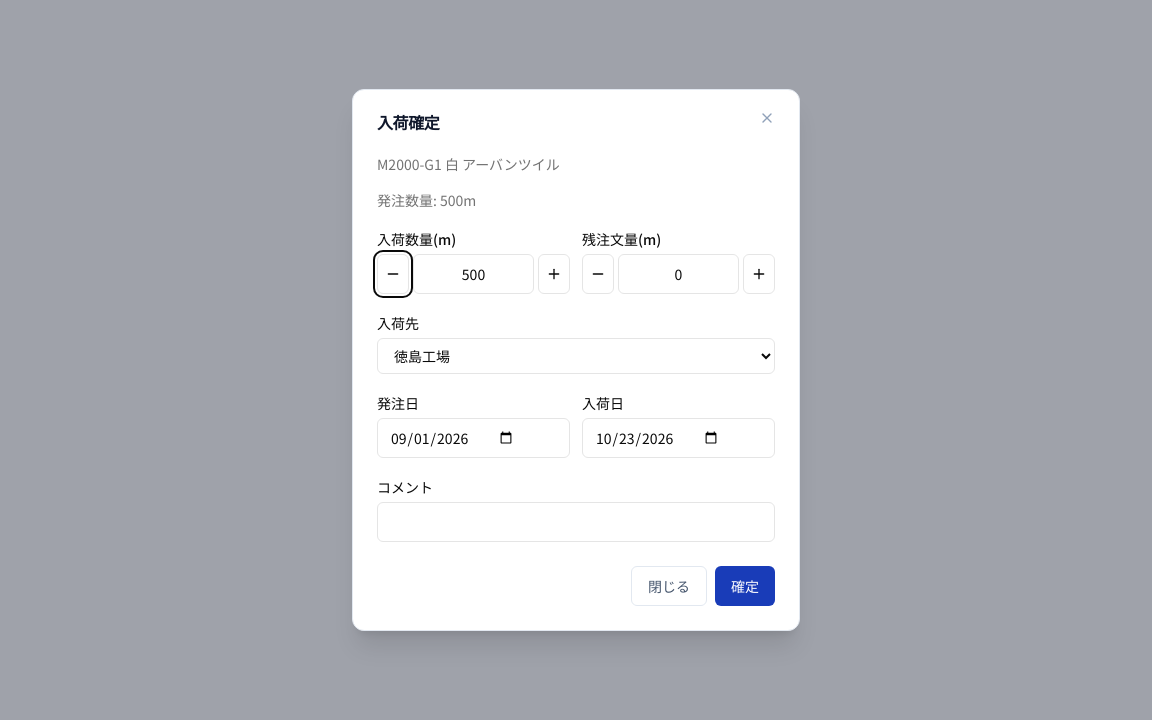
Scenario: TokushimaOrderToConfirmDialog › 入荷数量を減らすと残注文量が自動計算される
Clear the number field labelled "入荷数量(m)" at (474, 274), box [413, 254, 534, 294]
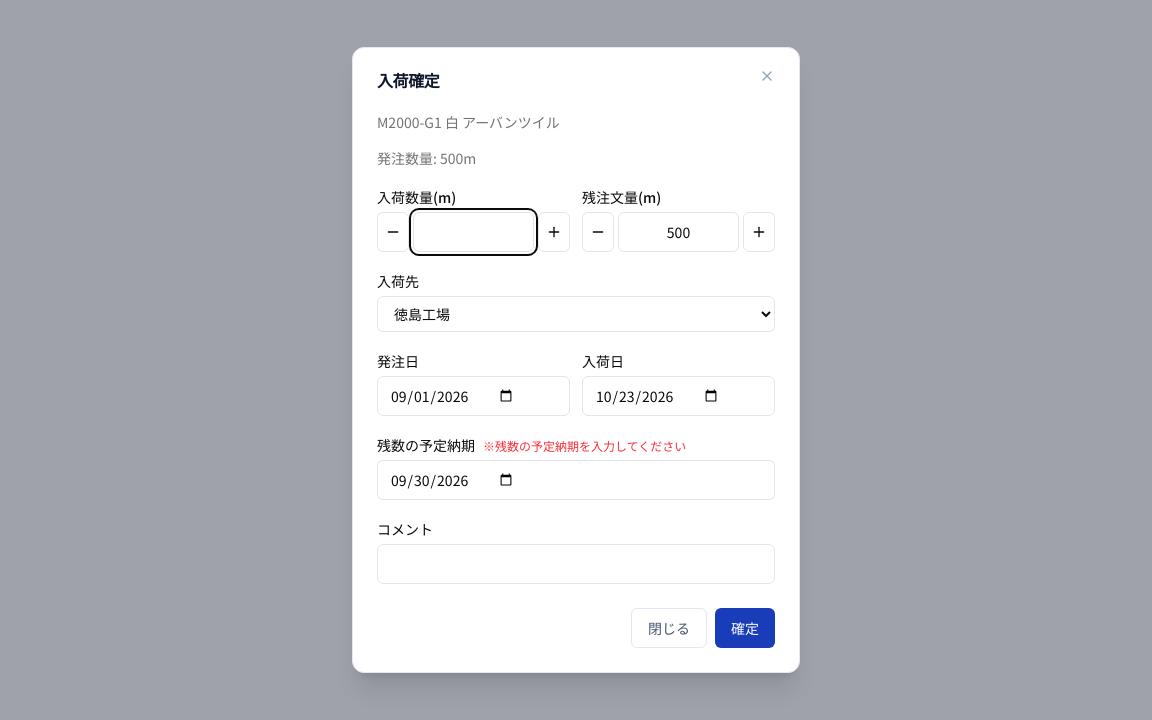
Type "450" into the number field labelled "入荷数量(m)" at (474, 232), box [413, 212, 534, 252]
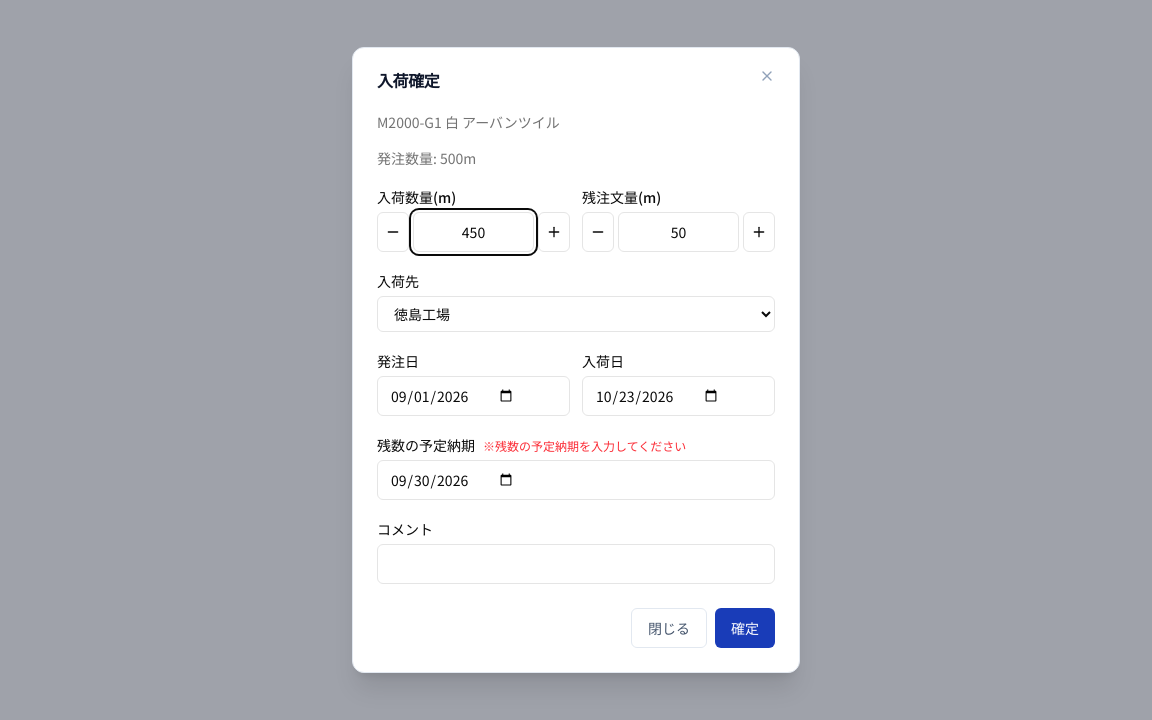
Check: the number field labelled "残注文量(m)" holds "50", box [618, 212, 739, 252]
